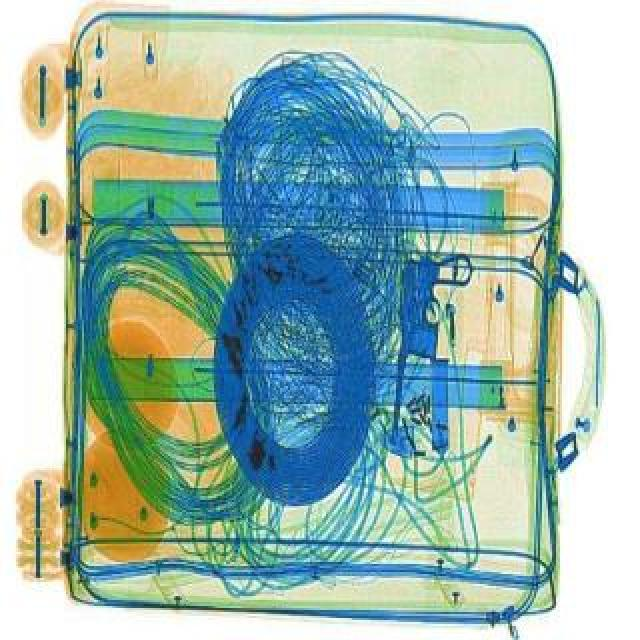gun: (380, 244, 472, 458)
